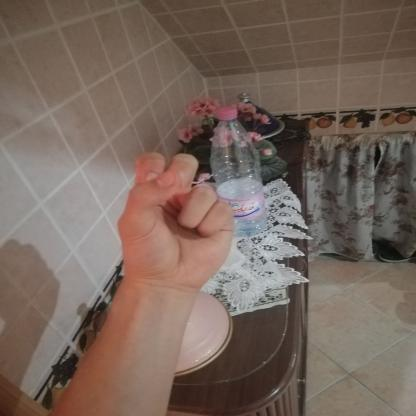QAAF: (93, 138, 262, 302)
